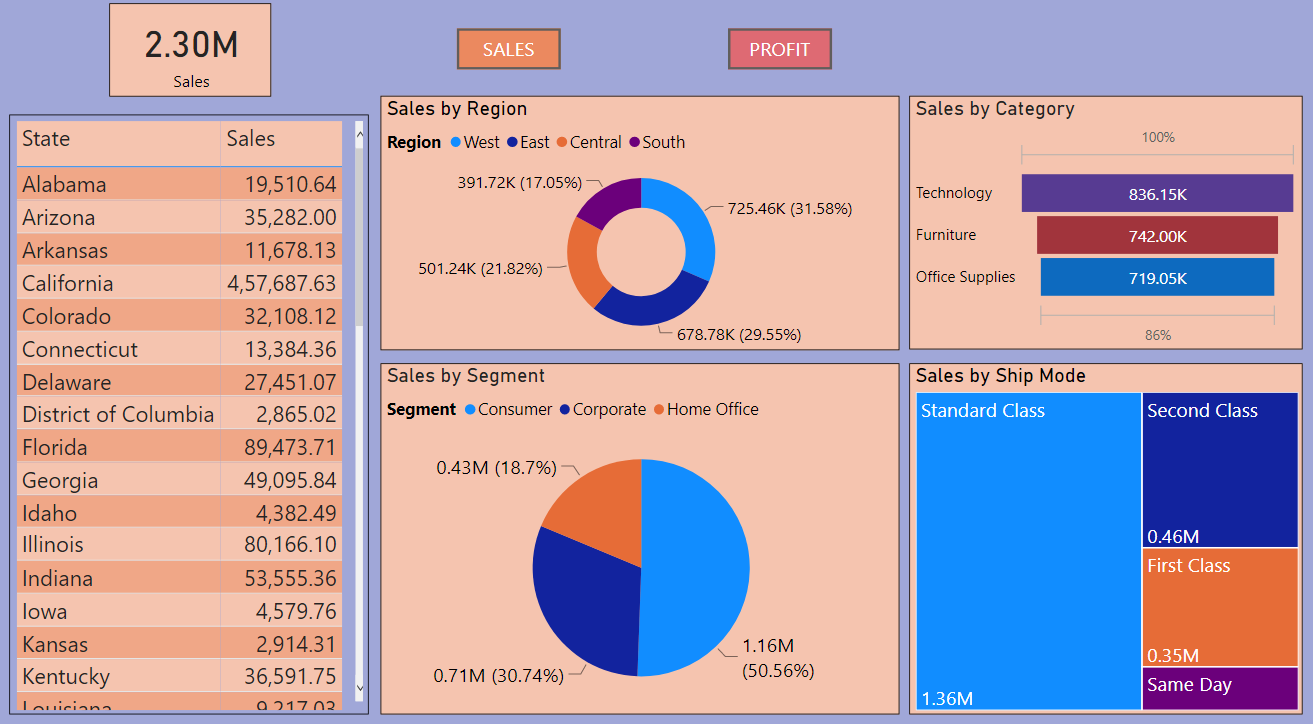

Layout of this report page (visuals, bound fields, positions):
{"tool":"powerbi","page":{"name":"Sales & Profit","canvas":[1280,720],"ordinal":2},"visuals":[{"type":"tableEx","fields":{"Values":["SampleSuperstore.State","Sum(SampleSuperstore.Sales)"]},"box":[16.3,118.5,348.1,580.7],"z":0},{"type":"treemap","fields":{"Group":["SampleSuperstore.Ship Mode"],"Values":["Sum(SampleSuperstore.Sales)"]},"box":[886.7,359.3,380.8,339.7],"z":1000},{"type":"donutChart","fields":{"Category":["SampleSuperstore.Region"],"Y":["Sum(SampleSuperstore.Sales)"]},"box":[375.4,100.1,502.3,246.7],"z":2000},{"type":"funnel","fields":{"Category":["SampleSuperstore.Category"],"Y":["Sum(SampleSuperstore.Sales)"]},"box":[887.4,100.7,380.7,245.9],"z":3000},{"type":"pieChart","fields":{"Category":["SampleSuperstore.Segment"],"Y":["Sum(SampleSuperstore.Sales)"]},"box":[375.4,359.3,502.3,339.7],"z":4000},{"type":"card","fields":{"Values":["Sum(SampleSuperstore.Sales)"]},"box":[112.6,10.4,157,90.4],"z":5000},{"type":"actionButton","box":[448.9,35.6,100.7,40],"z":6000},{"type":"actionButton","box":[711.1,35.6,100.7,40],"z":7000}]}

Visuals, with their boxes in screenshot pixels (x1, y1, x2, y2), scaled from the page's 1280x720 canvas onto the 1313x724 screenshot:
tableEx - SampleSuperstore.State x Sum(SampleSuperstore.Sales): x1=17, y1=119, x2=374, y2=703
treemap - SampleSuperstore.Ship Mode x Sum(SampleSuperstore.Sales): x1=910, y1=361, x2=1300, y2=703
donutChart - SampleSuperstore.Region x Sum(SampleSuperstore.Sales): x1=385, y1=101, x2=900, y2=349
funnel - SampleSuperstore.Category x Sum(SampleSuperstore.Sales): x1=910, y1=101, x2=1301, y2=349
pieChart - SampleSuperstore.Segment x Sum(SampleSuperstore.Sales): x1=385, y1=361, x2=900, y2=703
card - Sum(SampleSuperstore.Sales): x1=116, y1=10, x2=277, y2=101
actionButton: x1=460, y1=36, x2=564, y2=76
actionButton: x1=729, y1=36, x2=833, y2=76
